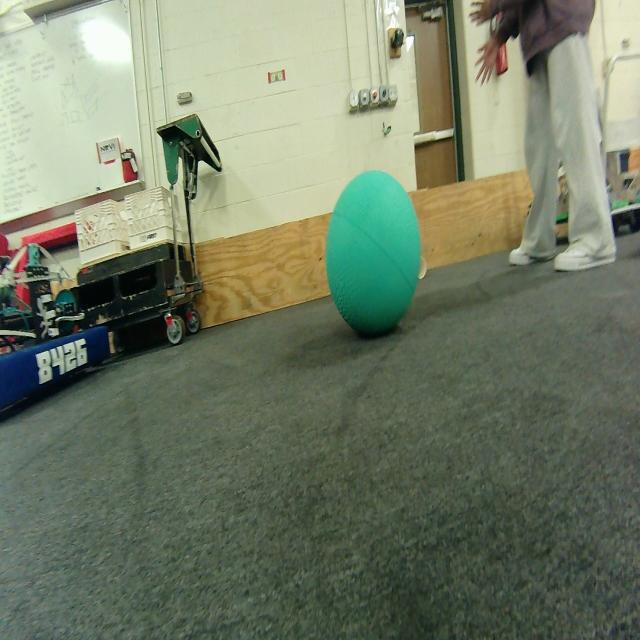algae: (326, 171, 421, 337)
